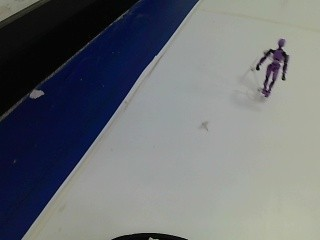pedestrian: (242, 28, 297, 104)
